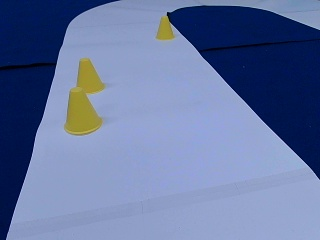cone: (64, 88, 102, 134), (74, 58, 104, 93), (156, 17, 173, 40)
